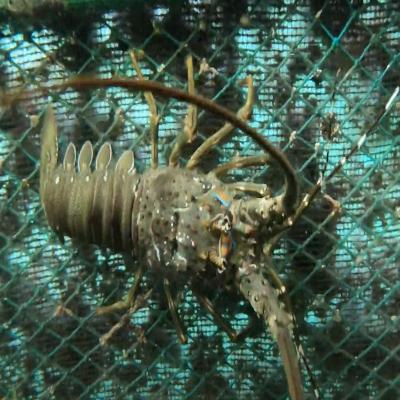lobster: (42, 143, 282, 322)
